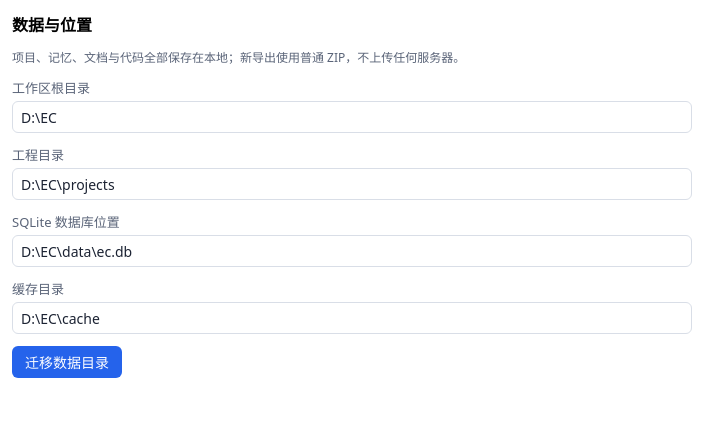
Test case: 数据目录迁移（FR-SET-02/03） › 迁移成功且迁移前后条数一致，显示备份目录
Replace the text in the field labelled "工作区根目录" with "E:\\EC" at [352, 117], box [21, 102, 683, 132]
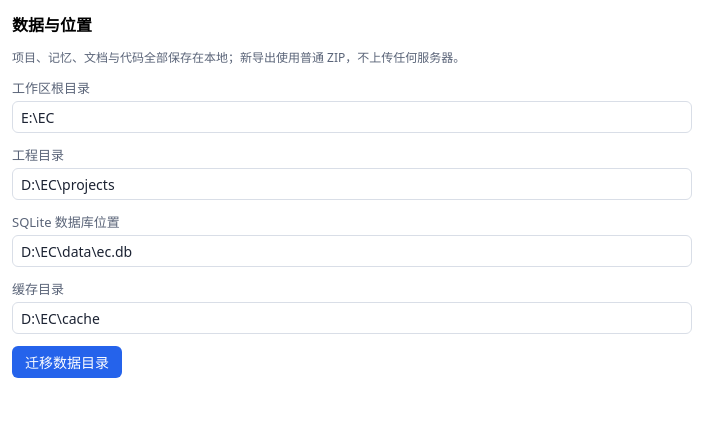
Click the button "迁移数据目录".
click(67, 362)  # box [12, 346, 122, 378]
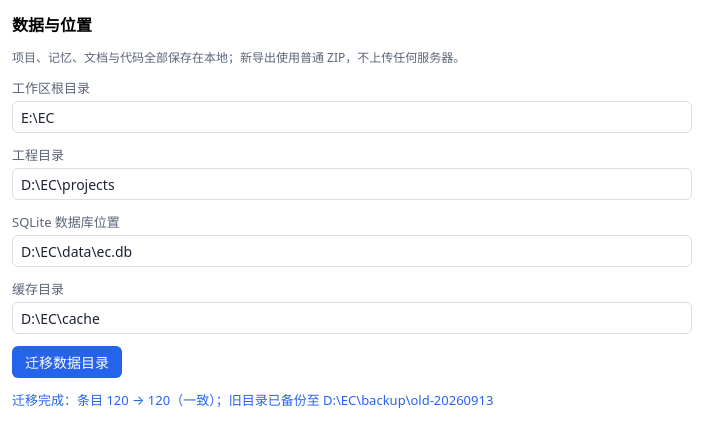
expect the text "迁移完成：条目 120 → 120（一致）；旧目录已备份至 D:\\EC\\backup\\old-20260913" is shown: met, box [12, 391, 493, 409]
